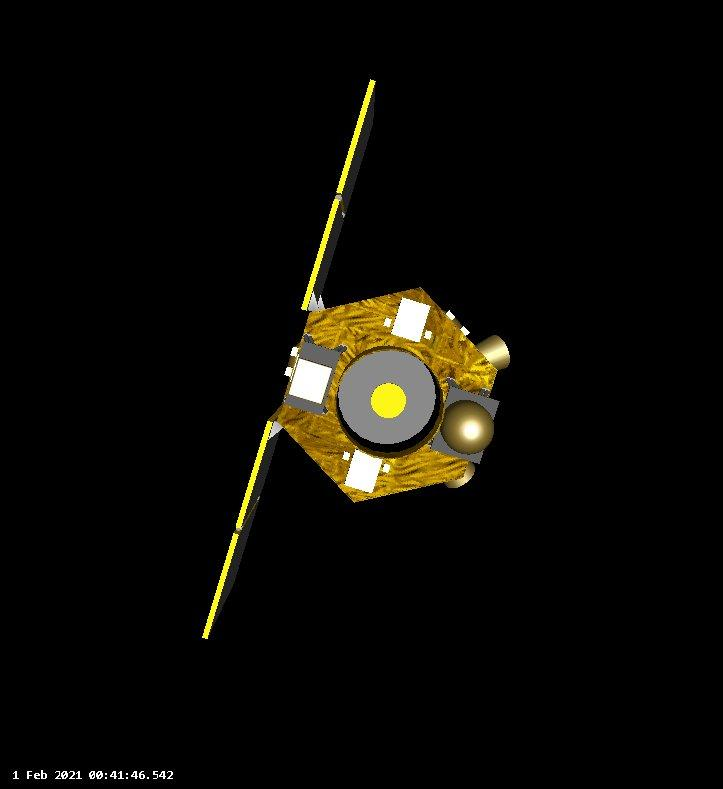body: (276, 287, 499, 503)
solar: (298, 76, 380, 316), (201, 406, 284, 642)
thruster: (474, 334, 514, 374), (439, 459, 477, 490), (301, 333, 310, 347), (331, 345, 345, 352), (337, 346, 348, 354), (308, 335, 315, 345)
